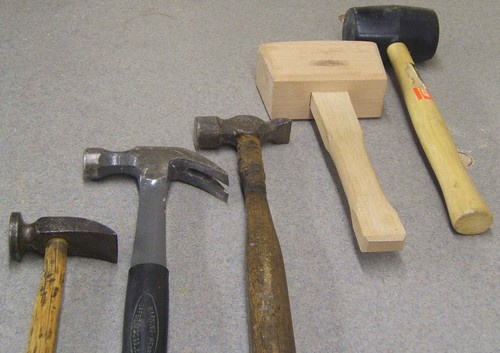hammer: (342, 7, 494, 240), (251, 40, 406, 260), (195, 107, 316, 353), (84, 137, 221, 353), (9, 209, 120, 353)
